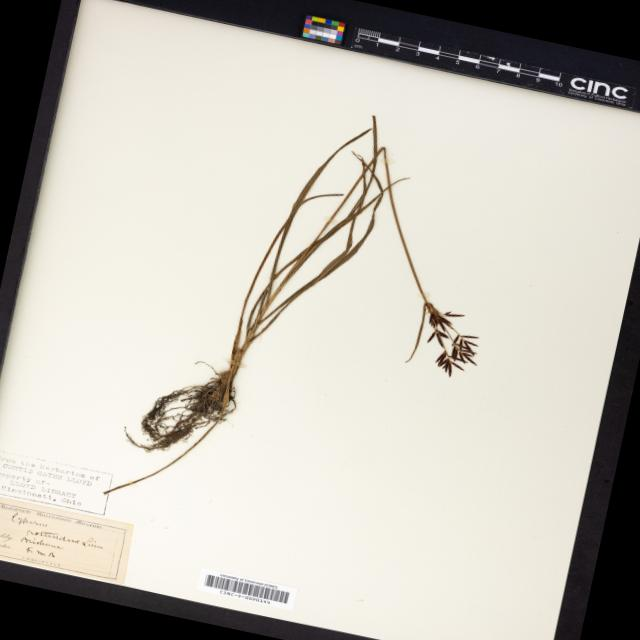cyperus: (395, 292, 501, 387)
